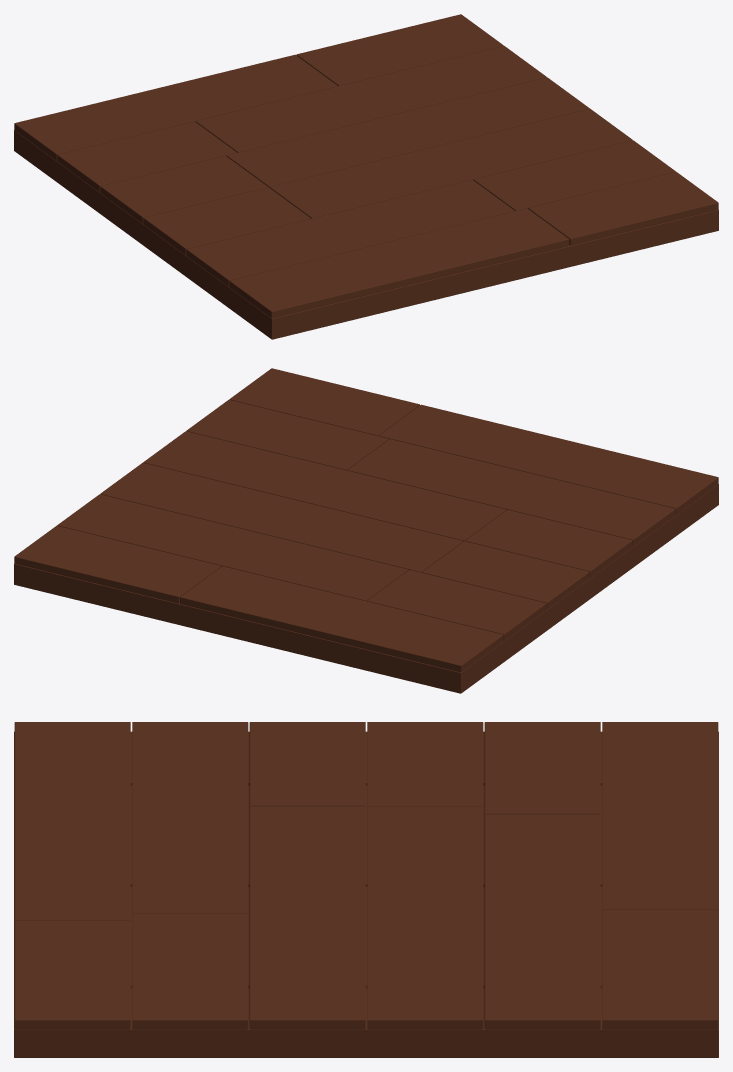
File: MASTER_Room_floor.fbx
3 views of the same model, one above another, from view 1: azimuth 30°, elevation 25°; view 2: azimuth 150°, elevation 25°; view 3: azimuth 270°, elevation 25° (orthographic). The views are drawn at different scales.
Visible parts, largest first — view 1: 01_DirectorFloor_Intact_Parquet_Planks; view 2: 01_DirectorFloor_Intact_Parquet_Planks; view 3: 01_DirectorFloor_Intact_Parquet_Planks.
Part boxes in pixels (bbox=[...]): 01_DirectorFloor_Intact_Parquet_Planks: bbox=[14, 14, 718, 339]; 01_DirectorFloor_Intact_Parquet_Planks: bbox=[14, 368, 718, 693]; 01_DirectorFloor_Intact_Parquet_Planks: bbox=[14, 722, 718, 1057].
Bounding box in the file's own units: 100 × 6 × 100.
